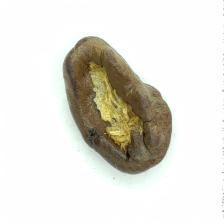NG: (80, 54, 150, 159)
